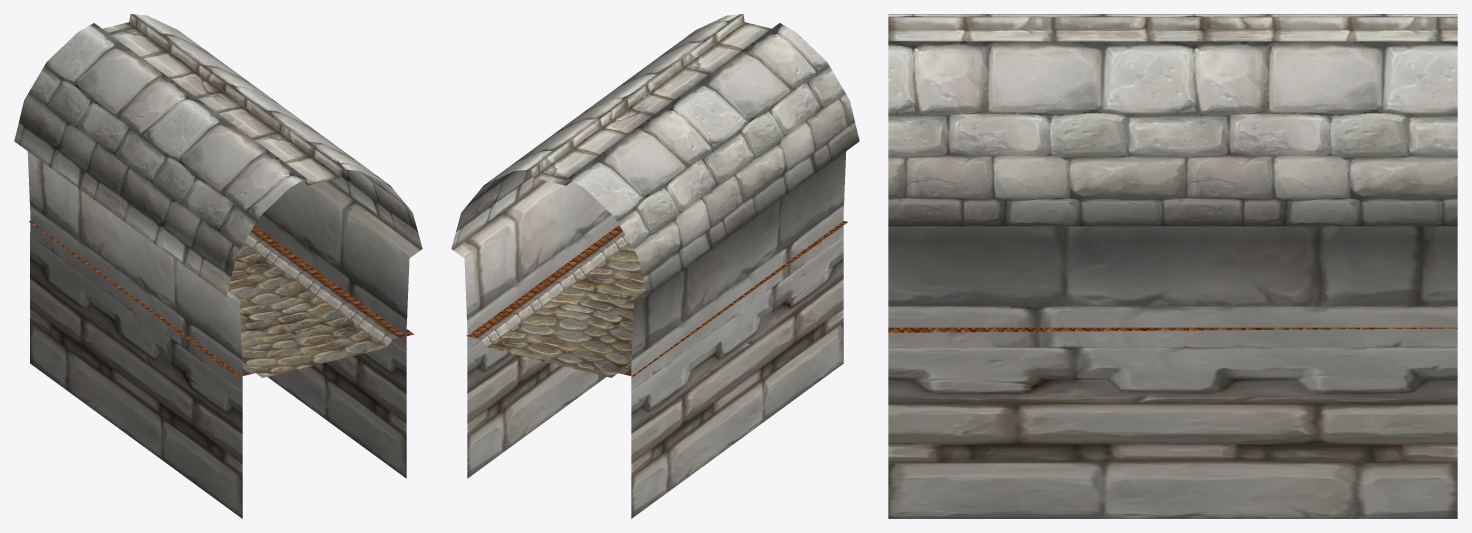
File: stormwind_010.fbx
3 views of the same model, side by side, from view 1: azimuth 30°, elevation 25°; view 2: azimuth 150°, elevation 25°; view 3: azimuth 270°, elevation 25° (orthographic). The views are drawn at different scales.
Parts seen in each view (by area): view 1: stormwind_010_11, stormwind_010_4, stormwind_010_46, stormwind_010_5, stormwind_010_12; view 2: stormwind_010_11, stormwind_010_4, stormwind_010_46, stormwind_010_5, stormwind_010_12; view 3: stormwind_010_11, stormwind_010_4, stormwind_010_5, stormwind_010_12.
Boxes of the visible parts, box(x1,y1,x2,y2) form: stormwind_010_11: box(27, 151, 422, 518); stormwind_010_4: box(14, 14, 422, 296); stormwind_010_46: box(228, 243, 386, 377); stormwind_010_5: box(102, 14, 342, 185); stormwind_010_12: box(29, 221, 413, 377); stormwind_010_11: box(452, 151, 846, 518); stormwind_010_4: box(451, 14, 859, 296); stormwind_010_46: box(487, 243, 645, 377); stormwind_010_5: box(531, 14, 771, 185); stormwind_010_12: box(466, 221, 847, 377); stormwind_010_11: box(888, 226, 1457, 518); stormwind_010_4: box(888, 14, 1457, 226); stormwind_010_5: box(888, 17, 1457, 41); stormwind_010_12: box(888, 327, 1457, 332).
Bounding box in the file's own units: 10.07 × 15.95 × 18.89.
